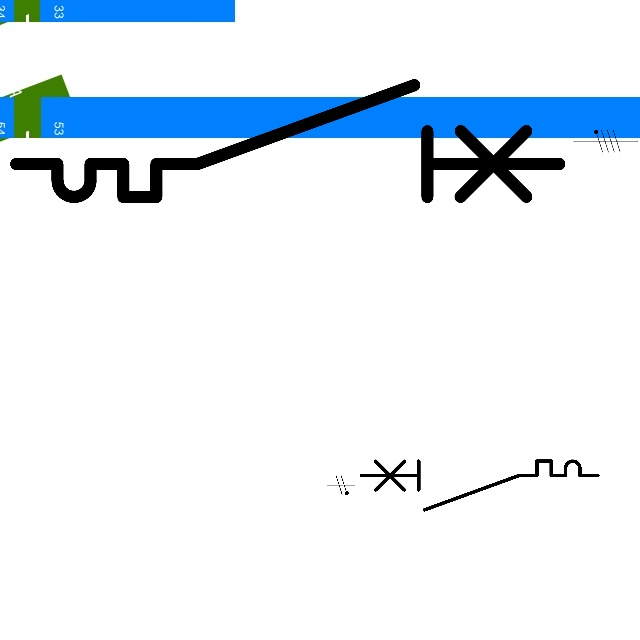interruptor_termomagnetico: (2, 71, 574, 211), (355, 455, 604, 516)
